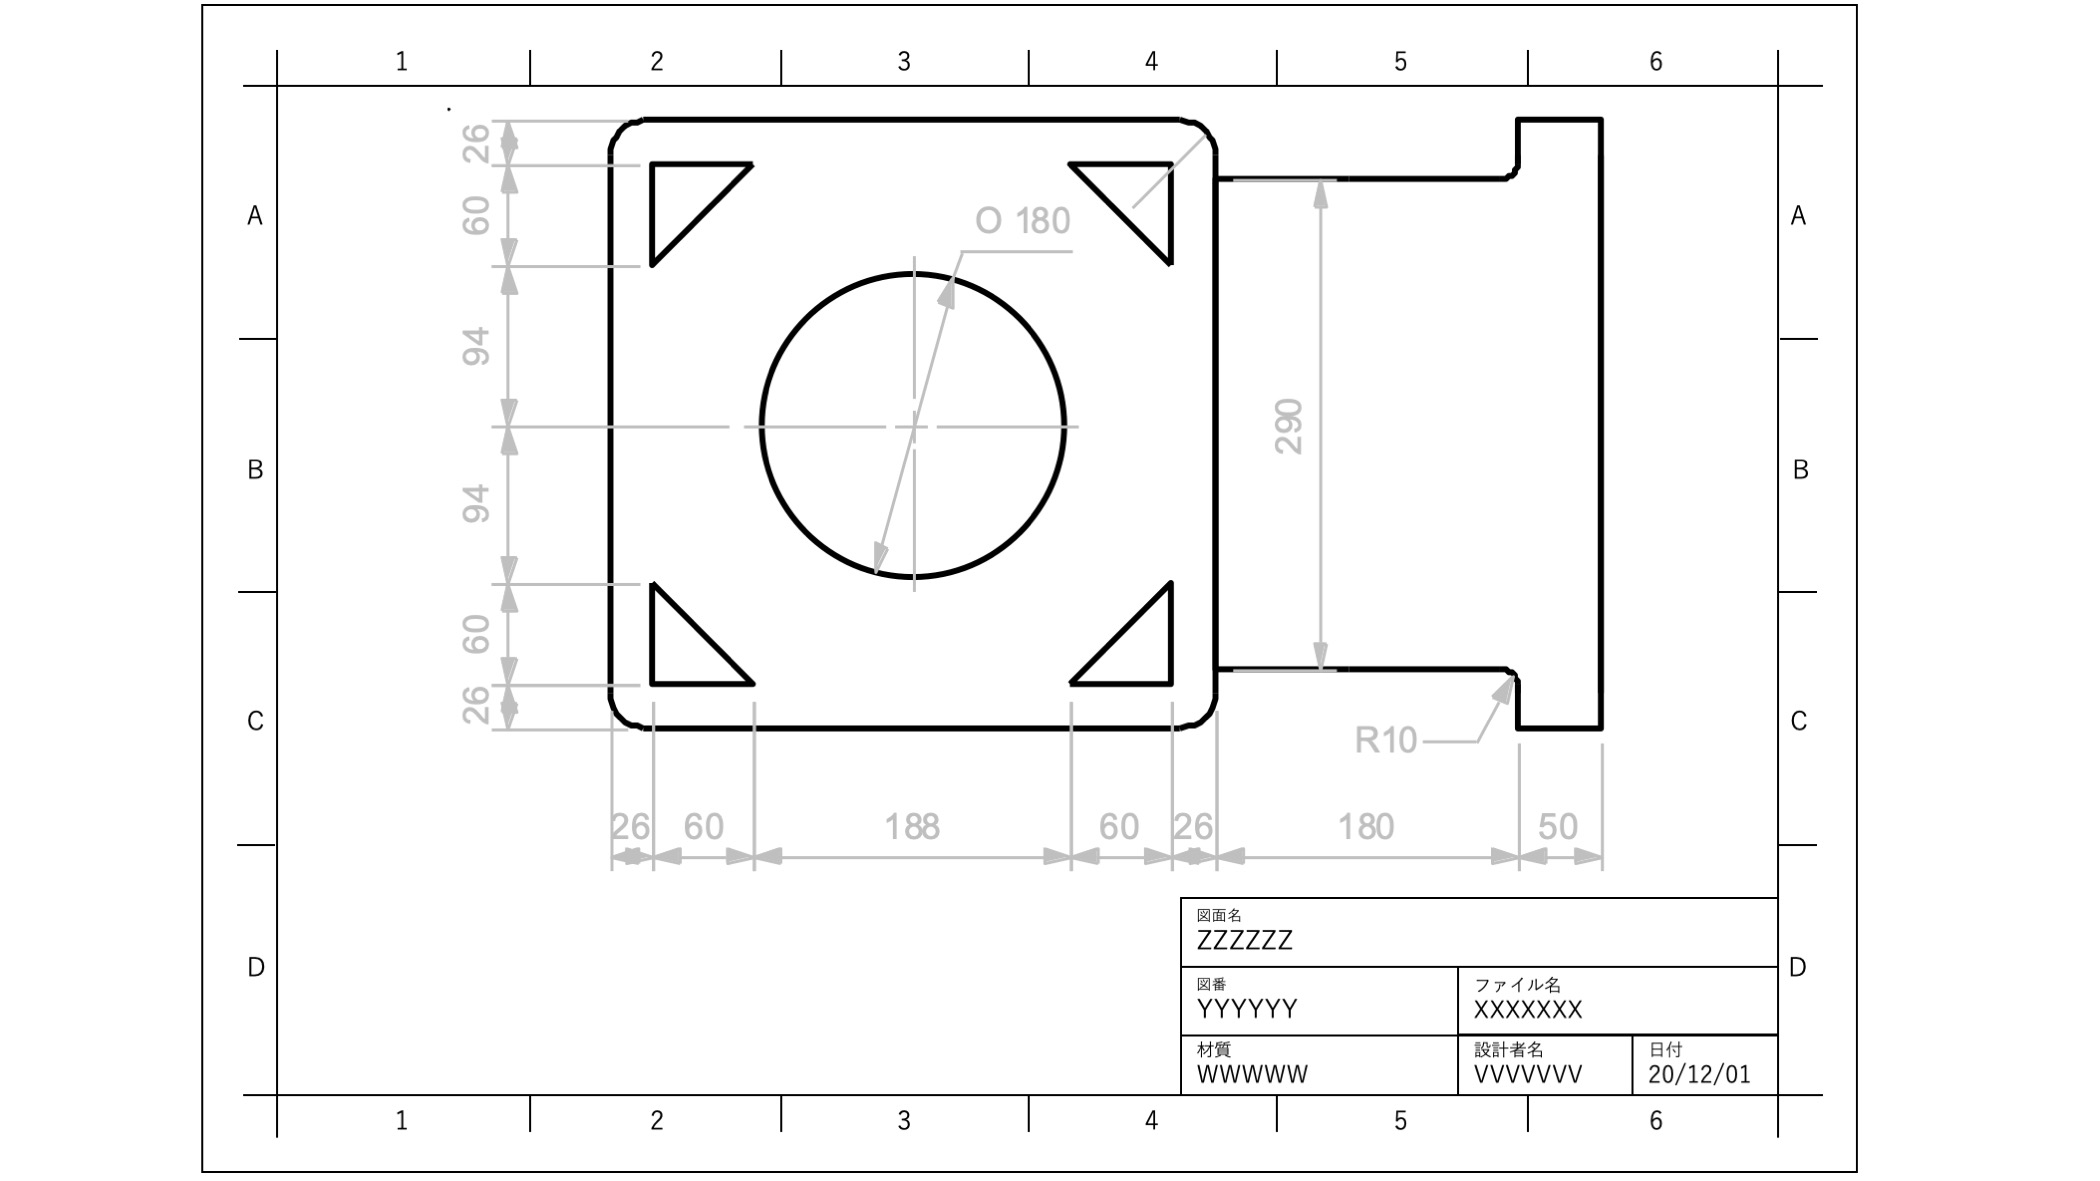circle: (744, 270, 1075, 590)
triangle: (1059, 150, 1183, 280), (1064, 574, 1186, 699), (639, 140, 754, 271), (640, 571, 757, 696)
